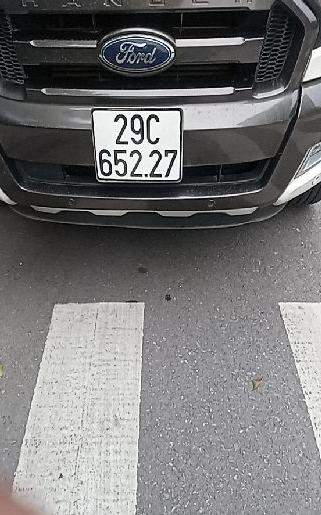Plate-iWeP: (91, 107, 185, 186)
